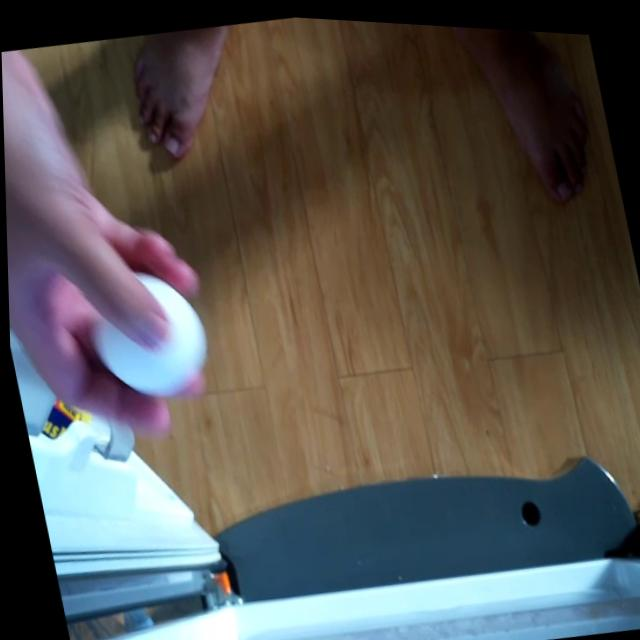egg: (74, 250, 220, 415)
